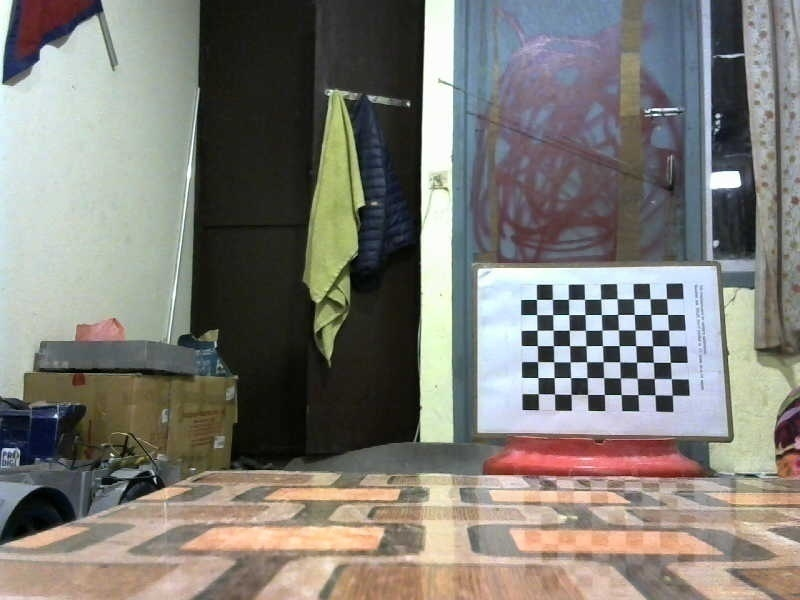block: (477, 266, 727, 435)
